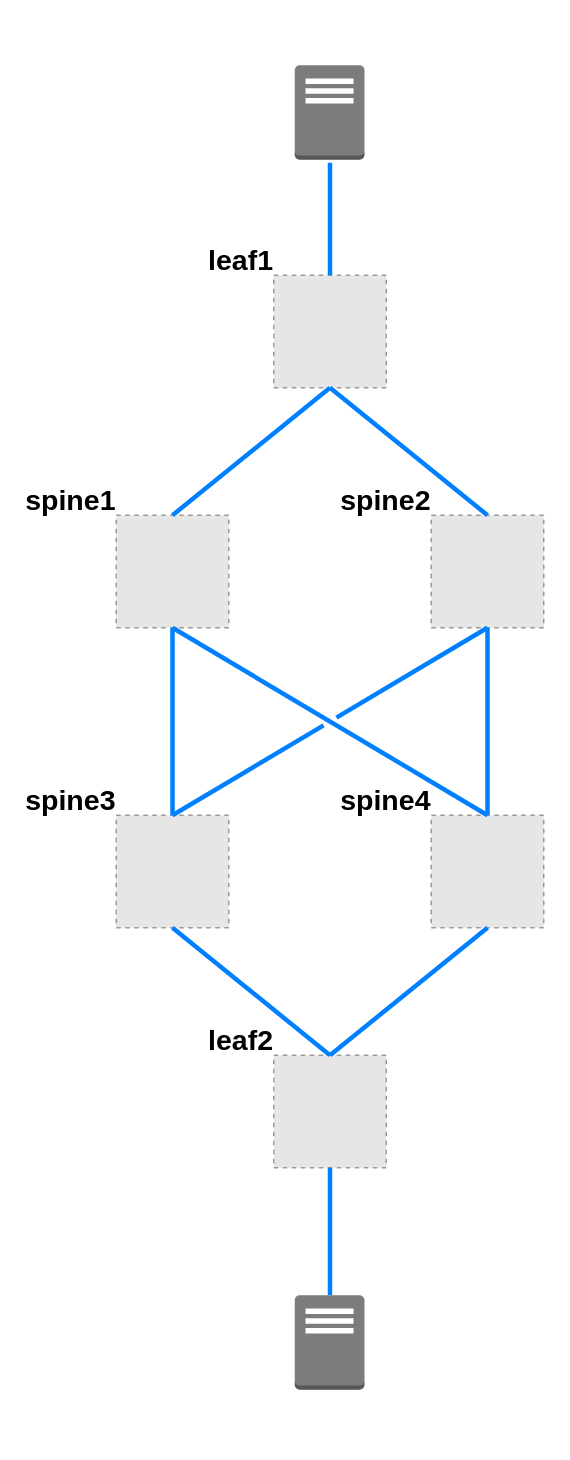
The diagram is 570 pixels wide and 1460 high, and some of its shapes have lost their labels. Grey dashed boxes stand in for pictures. The box of each missing label's shape, as (x1, y1, x2, y2) in pixels:
server1: (293, 64, 364, 160)
server2: (293, 1294, 364, 1390)
